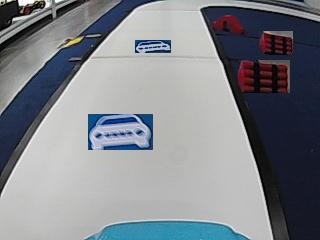bridge: (215, 15, 244, 34)
